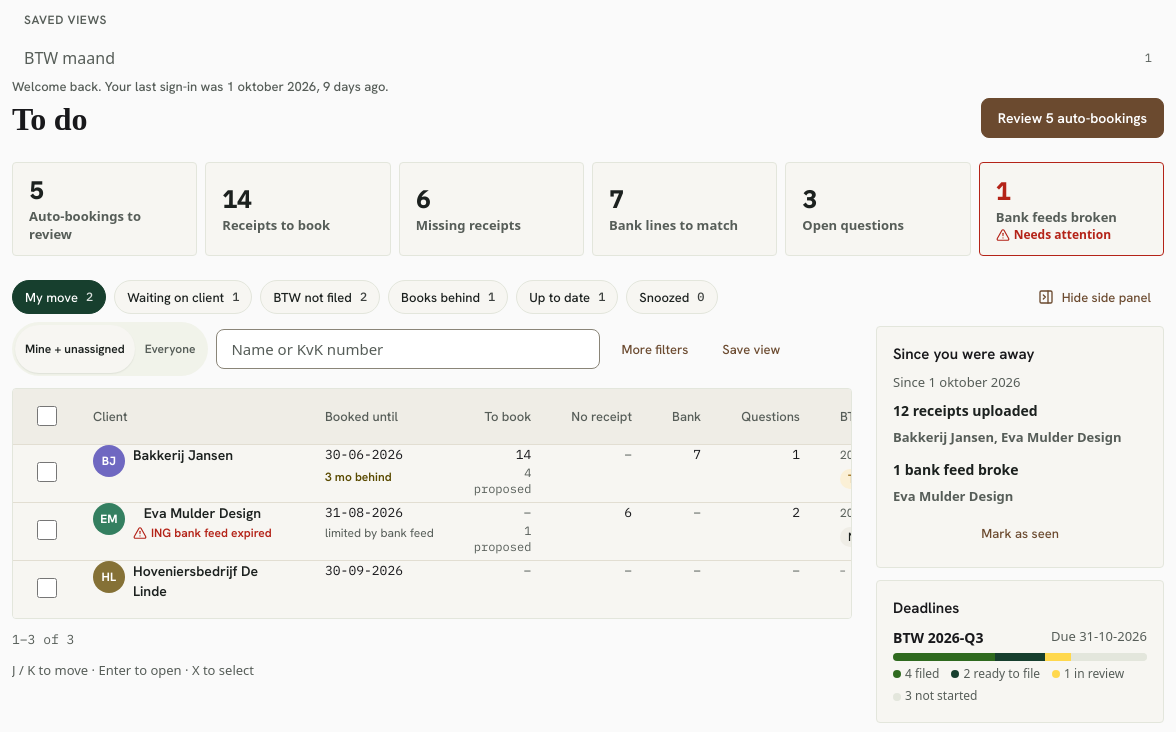
saved views › lists views with their count, and a click applies the view's query
Check: the row with test id "firm-row-adm-1" is shown, box [13,445,852,503]
Click the button with test id "nav-view-view-1". click: (69, 58)
box: [12,38,1164,78]
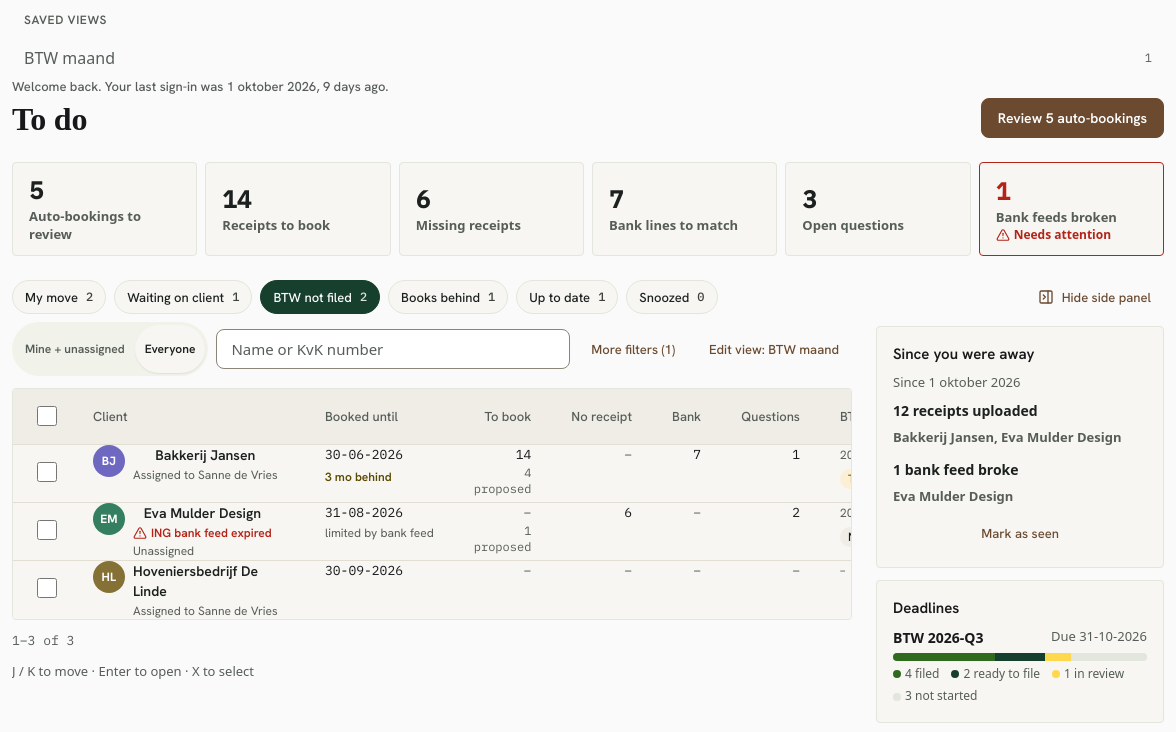
Check: the button with test id "firm-view-manage" reads "Edit view: BTW maand", box [696,332,852,366]
Check: the button with test id "firm-more-filters" reads "More filters (1)", box [578,332,688,366]
